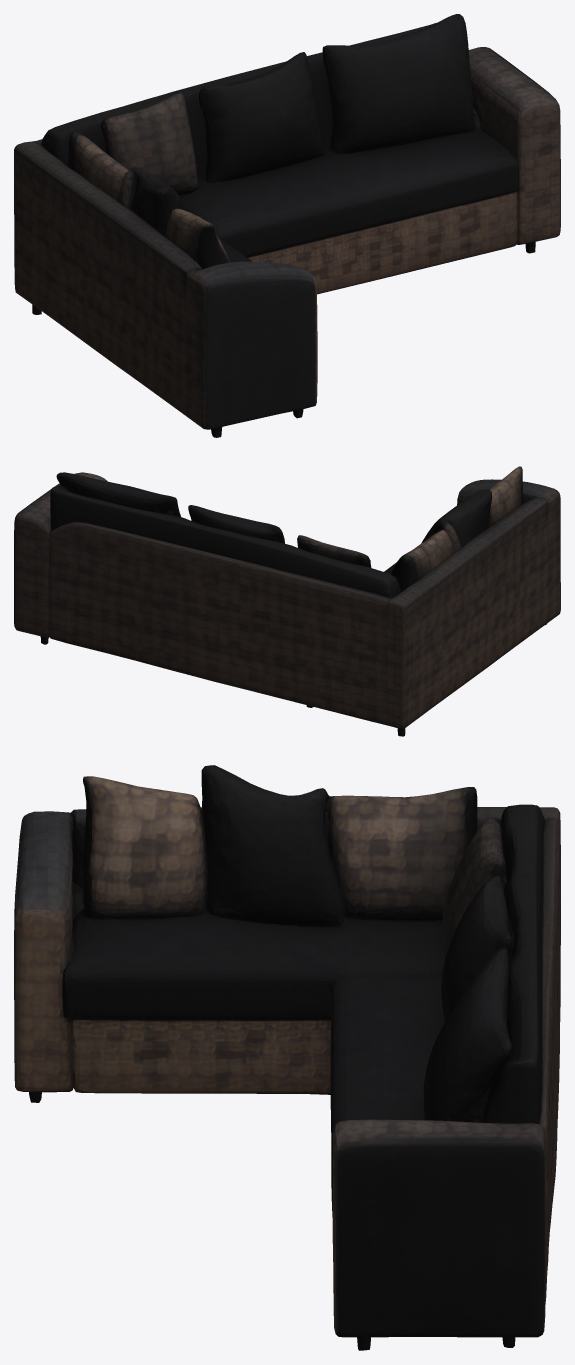
The model's file is 11159_sofa_two_tone_l_shape_bao.glb.
3 renders of one model, top to bottom at view 1: azimuth 30°, elevation 25°; view 2: azimuth 150°, elevation 25°; view 3: azimuth 270°, elevation 25°, orthographic. The views are drawn at different scales.
Parts seen in each view (by area): view 1: world; view 2: world; view 3: world.
Part boxes in pixels (bbox=[...]): world: bbox=[14, 14, 560, 437]; world: bbox=[14, 466, 560, 736]; world: bbox=[14, 765, 560, 1350].
Size of the model in its own units: 0.9936 by 0.4197 by 0.7074.
Materials: 1 (1 with a texture image).
